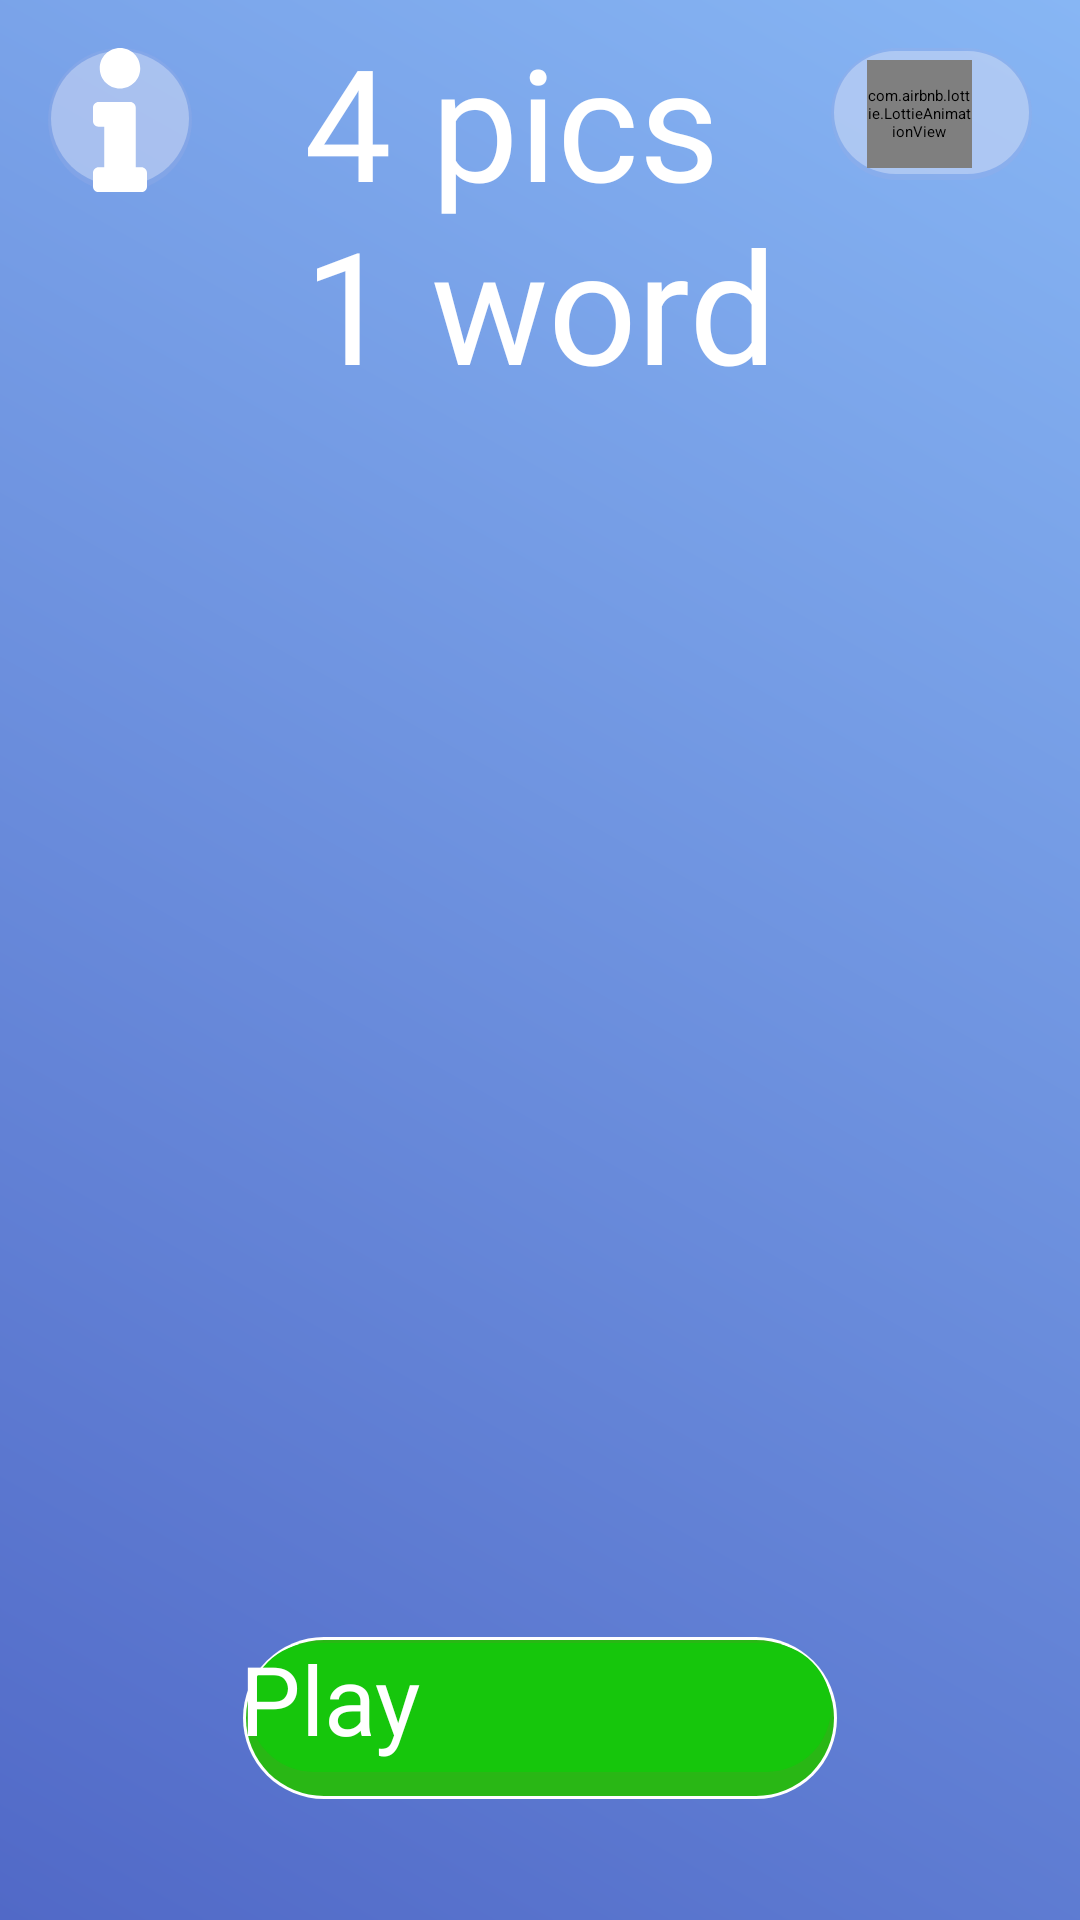

Where to tap for icons on this 1080 x 1920 app screen, as (x,y):
info: (120,120)
